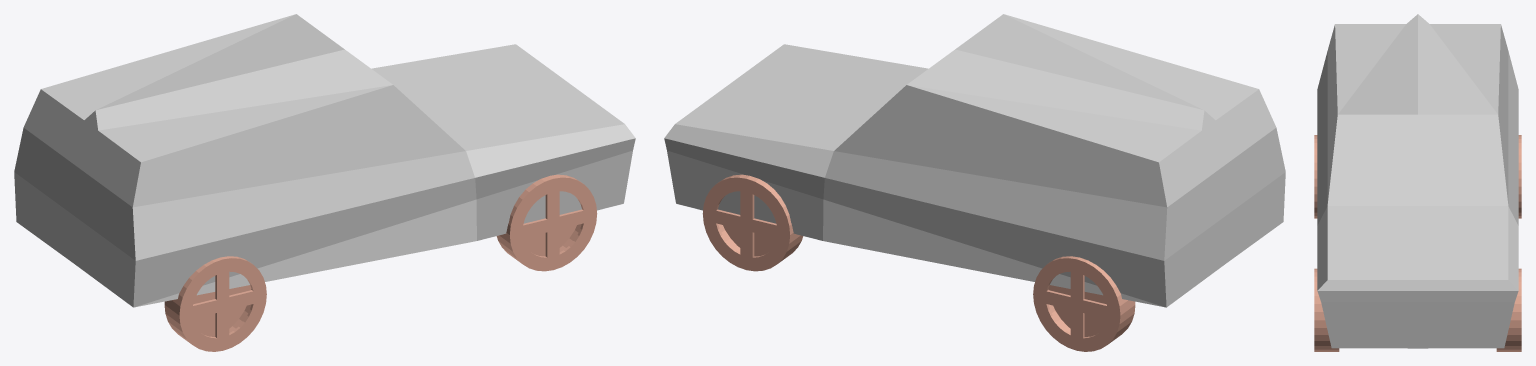
File: TestCarV1.glb
3 renders of one model, left to right at view 1: azimuth 30°, elevation 25°; view 2: azimuth 150°, elevation 25°; view 3: azimuth 270°, elevation 25°, orthographic. The views are drawn at different scales.
Parts seen in each view (by area): view 1: body, wheel_RR, wheel_FR; view 2: body, wheel_RL, wheel_FL; view 3: body, wheel_FL, wheel_FR, wheel_RL, wheel_RR.
Boxes of the visible parts, box(x1,y1,x2,y2) form: body: box(14, 14, 635, 307); wheel_RR: box(164, 256, 266, 351); wheel_FR: box(496, 174, 597, 271); body: box(664, 14, 1285, 307); wheel_RL: box(1033, 256, 1135, 351); wheel_FL: box(702, 174, 803, 271); body: box(1317, 14, 1518, 348); wheel_FL: box(1496, 268, 1521, 351); wheel_FR: box(1314, 268, 1339, 351); wheel_RL: box(1518, 135, 1521, 218); wheel_RR: box(1314, 135, 1317, 218).
Bounding box in the file's own units: 3.82 × 1.54 × 1.65.
